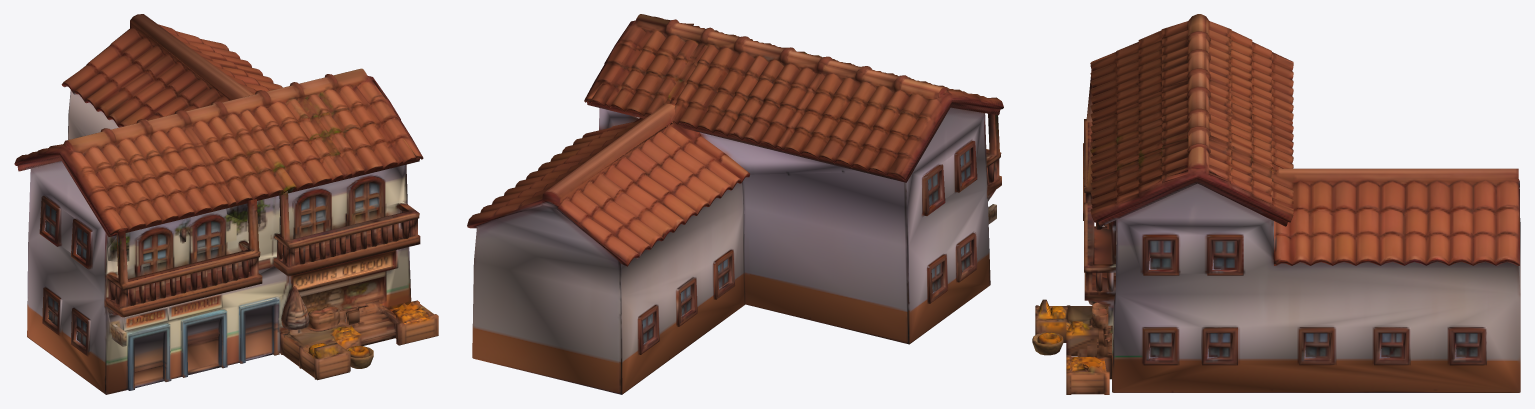
Rendered from casa.fbx.
3 renders of one model, left to right at view 1: azimuth 30°, elevation 25°; view 2: azimuth 150°, elevation 25°; view 3: azimuth 270°, elevation 25°, orthographic. The views are drawn at different scales.
Parts seen in each view (by area): view 1: mesh_rep_0_ori_repair_quad; view 2: mesh_rep_0_ori_repair_quad; view 3: mesh_rep_0_ori_repair_quad.
Part boxes in pixels (bbox=[...]): mesh_rep_0_ori_repair_quad: bbox=[14, 14, 438, 394]; mesh_rep_0_ori_repair_quad: bbox=[467, 14, 1003, 394]; mesh_rep_0_ori_repair_quad: bbox=[1032, 14, 1520, 394].
Size of the model in its own units: 68.89 by 46.71 by 89.71.
1 material, 1 textured.
